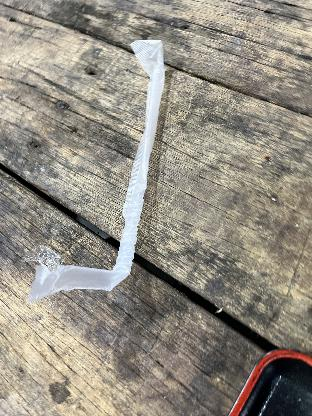Others: (29, 36, 168, 298)
